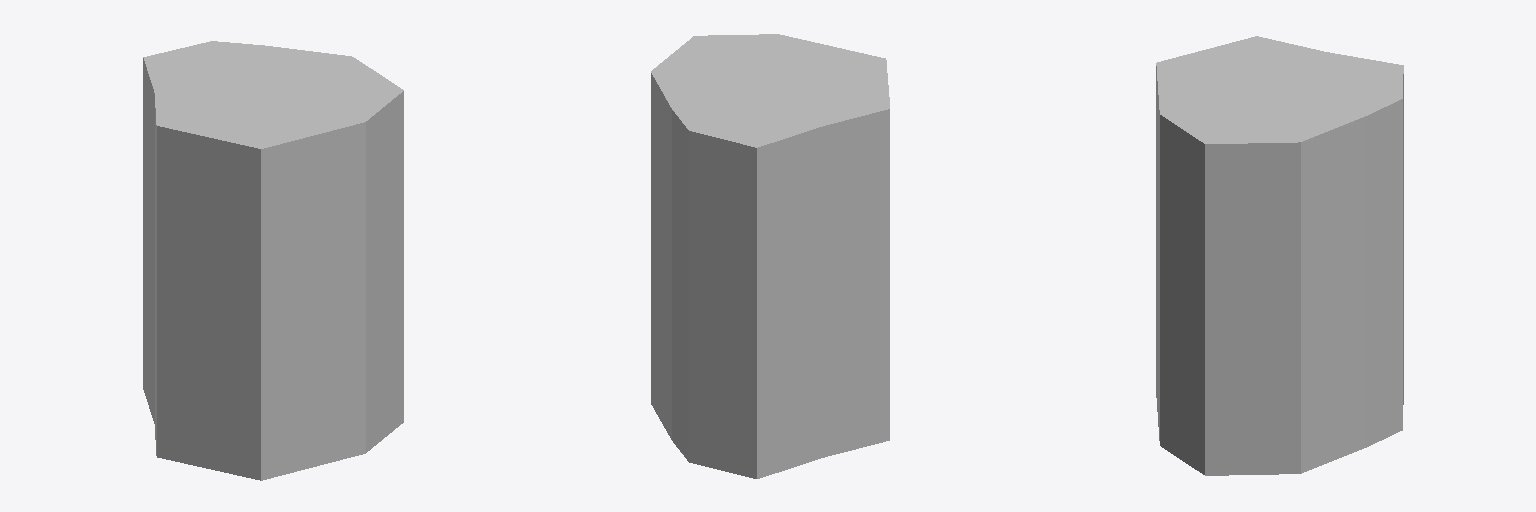
The model's file is small_rock_group_col.obj.
3 views of the same model, side by side, from view 1: azimuth 30°, elevation 25°; view 2: azimuth 150°, elevation 25°; view 3: azimuth 270°, elevation 25° (orthographic).
Parts seen in each view (by area): view 1: small_rock_group_col.001; view 2: small_rock_group_col.001; view 3: small_rock_group_col.001.
Boxes of the visible parts, x1=… form: small_rock_group_col.001: x1=143, y1=41, x2=403, y2=480; small_rock_group_col.001: x1=651, y1=34, x2=889, y2=478; small_rock_group_col.001: x1=1156, y1=36, x2=1403, y2=475.
Bounding box in the file's own units: 3.66 × 5.22 × 3.53.